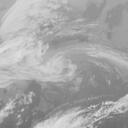cyclone: (20, 25, 97, 97)
